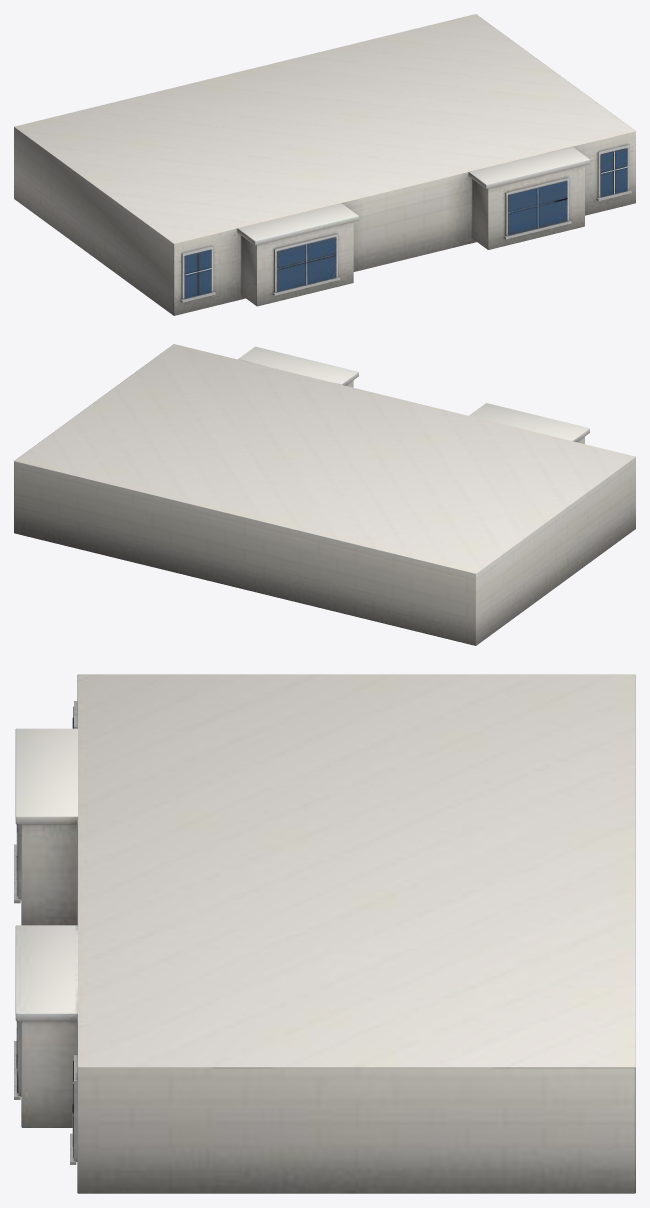
File: planta_miradores.glb
3 renders of one model, top to bottom at view 1: azimuth 30°, elevation 25°; view 2: azimuth 150°, elevation 25°; view 3: azimuth 270°, elevation 25°, orthographic. The views are drawn at different scales.
Visible parts, largest first — view 1: planta_miradores; view 2: planta_miradores; view 3: planta_miradores.
Part boxes in pixels (left/top/right/bottom): planta_miradores: left=14, top=14, right=635, bottom=315; planta_miradores: left=14, top=344, right=635, bottom=645; planta_miradores: left=14, top=674, right=635, bottom=1193.
Size of the model in its own units: 20 by 3 by 13.36.
Materials: 1 (1 with a texture image).
